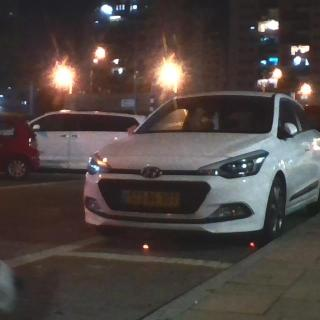LicensePlate: (128, 192, 179, 205)
